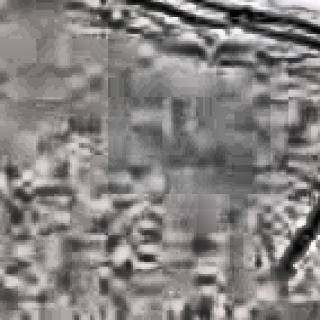crack: (142, 0, 320, 48)
